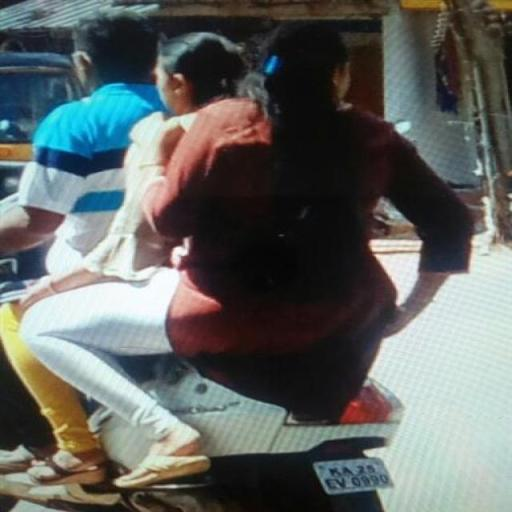tripple riding: (0, 16, 482, 392)
